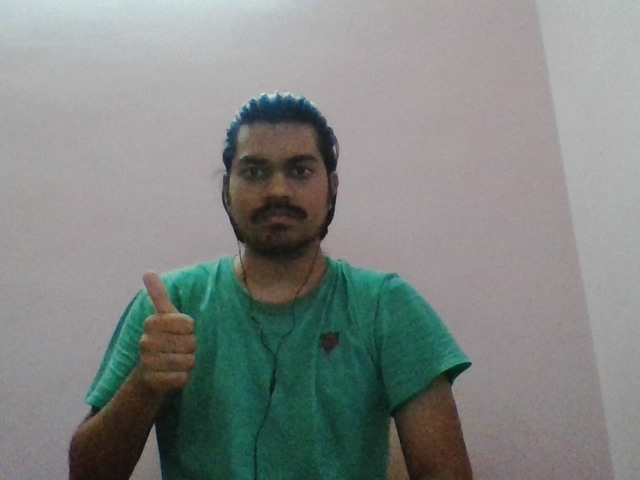ThumbsUp: (138, 264, 197, 397)
